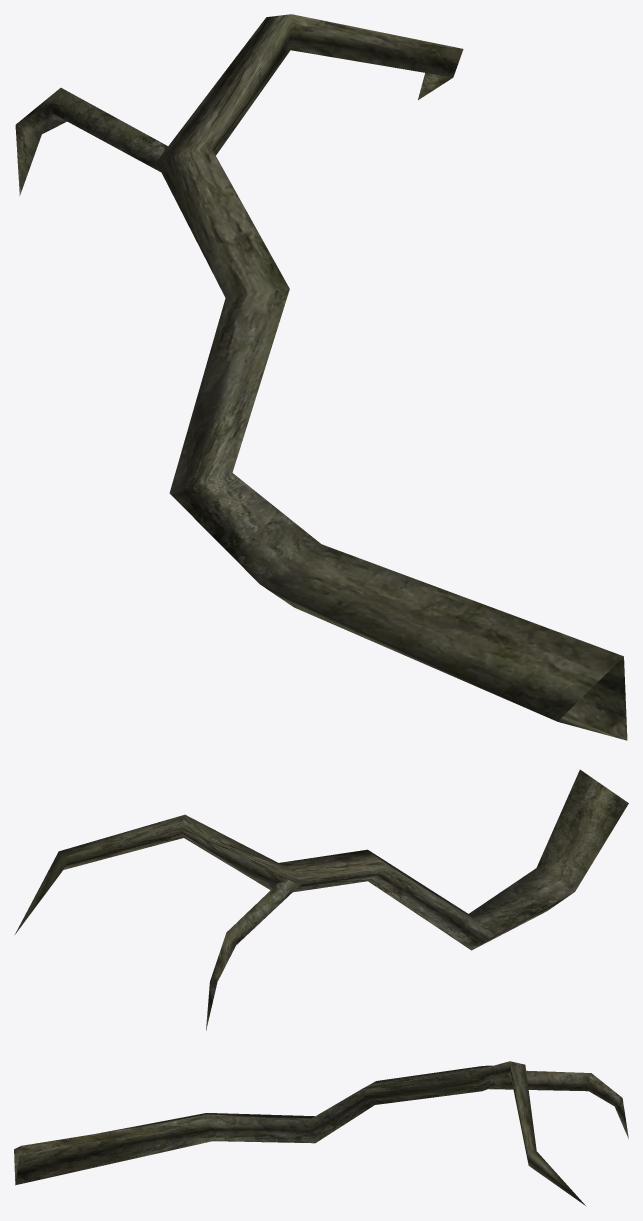
Rendered from TI_Old_Tree_Branch_01.fbx.
3 views of the same model, one above another, from view 1: azimuth 30°, elevation 25°; view 2: azimuth 150°, elevation 25°; view 3: azimuth 270°, elevation 25° (orthographic). The views are drawn at different scales.
Visible parts, largest first — view 1: TI_Old_Tree_Branch_01; view 2: TI_Old_Tree_Branch_01; view 3: TI_Old_Tree_Branch_01.
Part boxes in pixels (bbox=[...]): TI_Old_Tree_Branch_01: bbox=[15, 14, 627, 740]; TI_Old_Tree_Branch_01: bbox=[15, 769, 628, 1030]; TI_Old_Tree_Branch_01: bbox=[14, 1061, 628, 1206].
Bounding box in the file's own units: 2.09 × 1.21 × 4.14.
